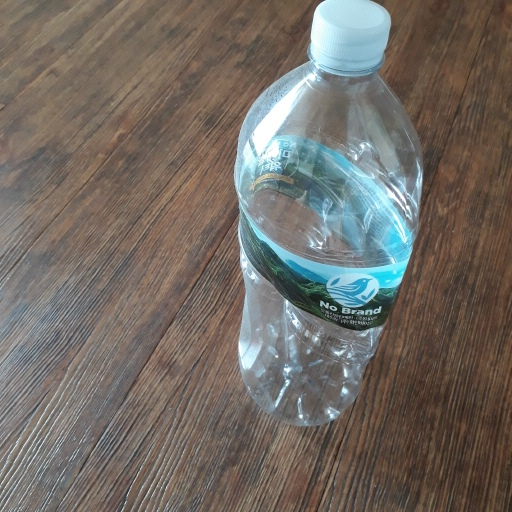Plastic_0: (233, 1, 424, 421)
